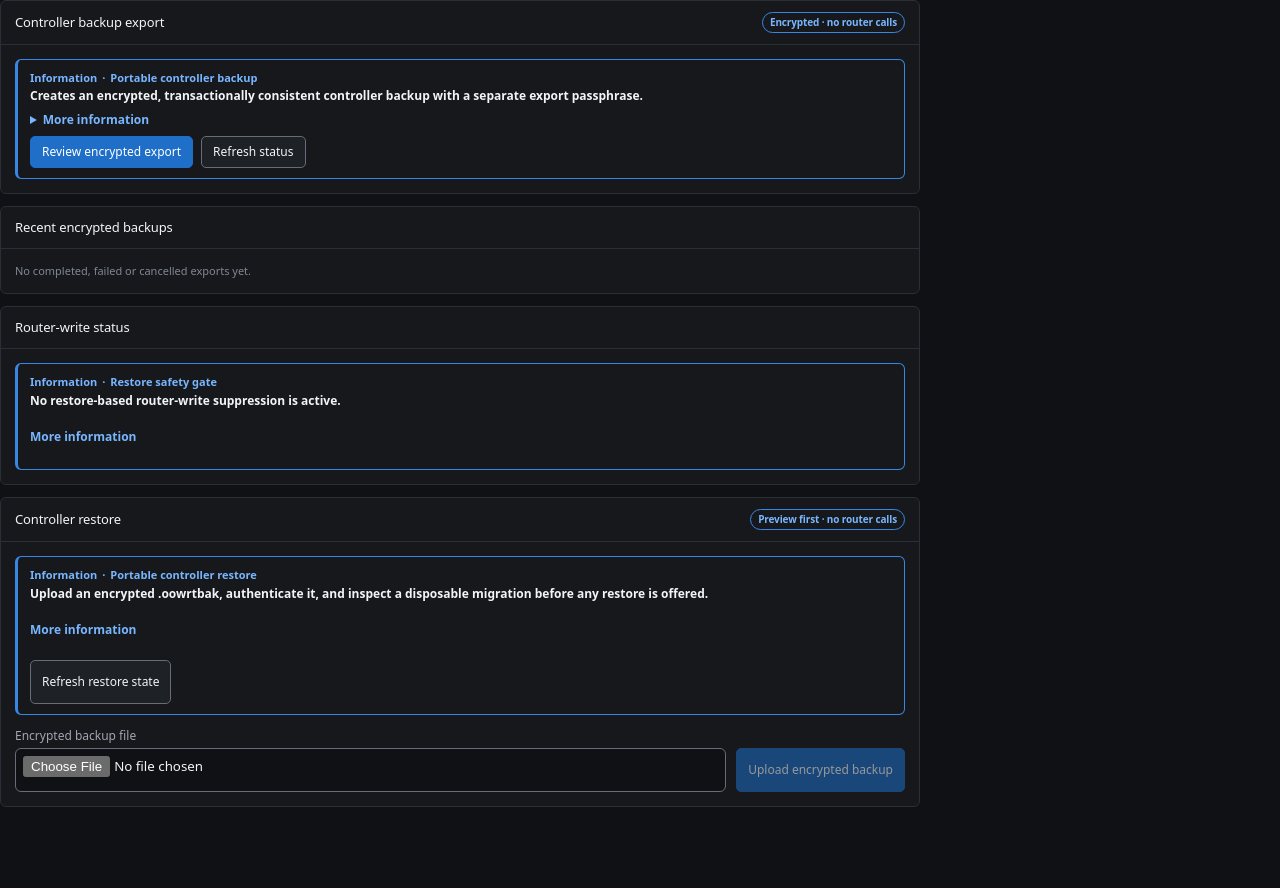
Test case: Backups › keeps sensitive details compact, then sends the exact reviewed plan and fresh acknowledgement
This screenshot has width=1280, height=888.
Expected: the text "Creates an encrypted, transactionally consistent controller backup" is shown, [30,87,643,104]
Expected: the field labelled "Export passphrase" is not shown
Click the button "Review encrypted export" at (112, 152), box [30,136,193,168]
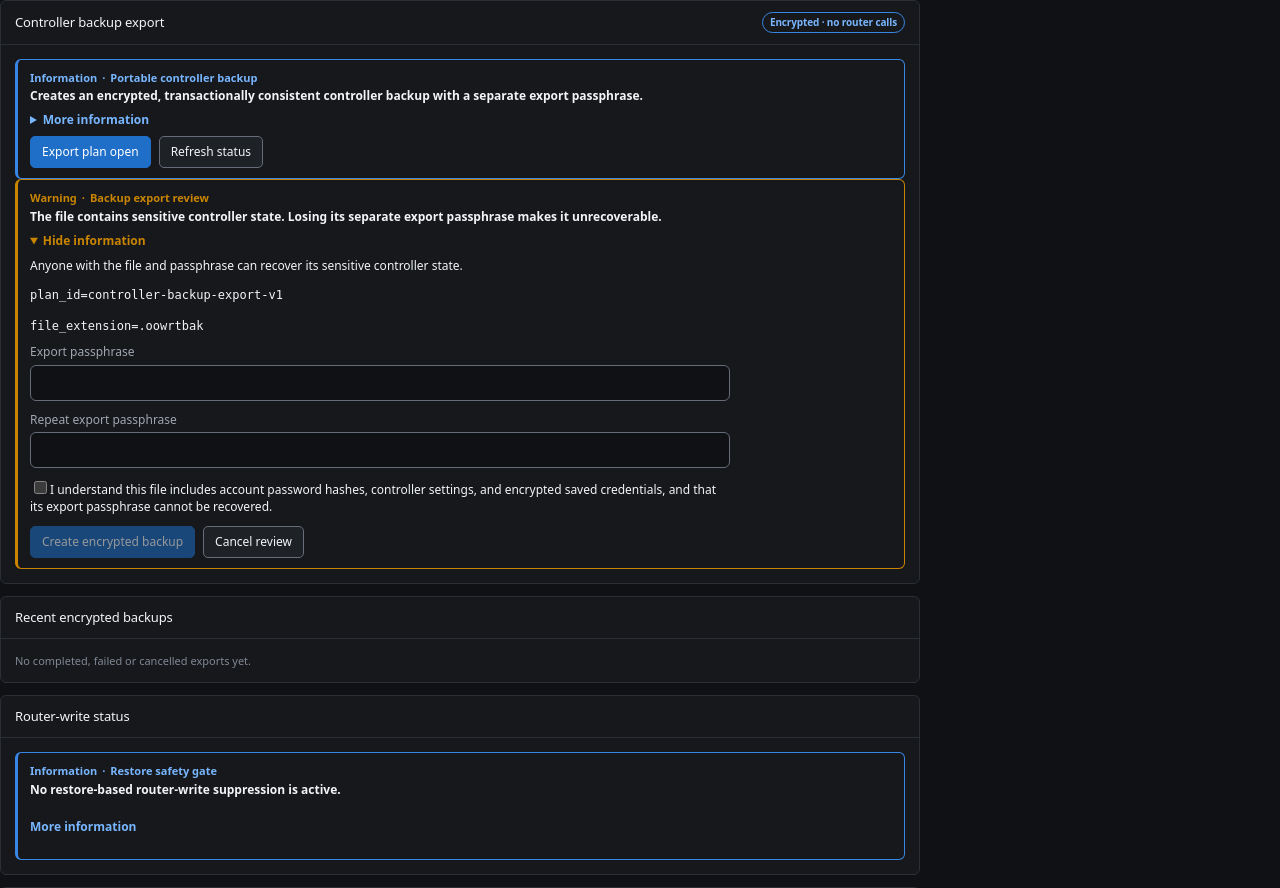
Now the text "plan_id=controller-backup-export-v1" is shown, box [30,288,283,302]
Type "separate export passphrase" into the password field labelled "Export passphrase" at (380, 382), box [30,364,730,400]
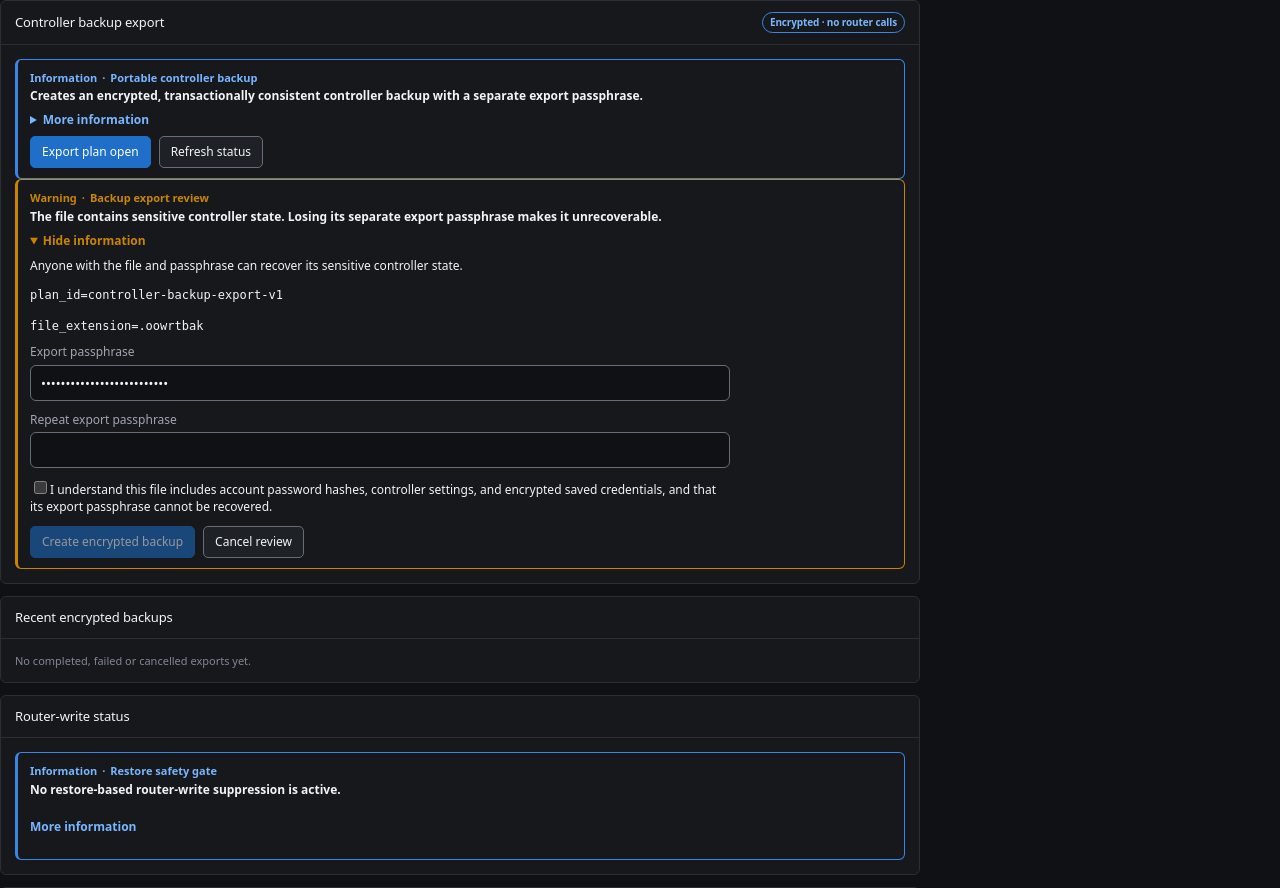
Type "separate export passphrase" into the password field labelled "Repeat export passphrase" at (380, 450), box [30,432,730,468]
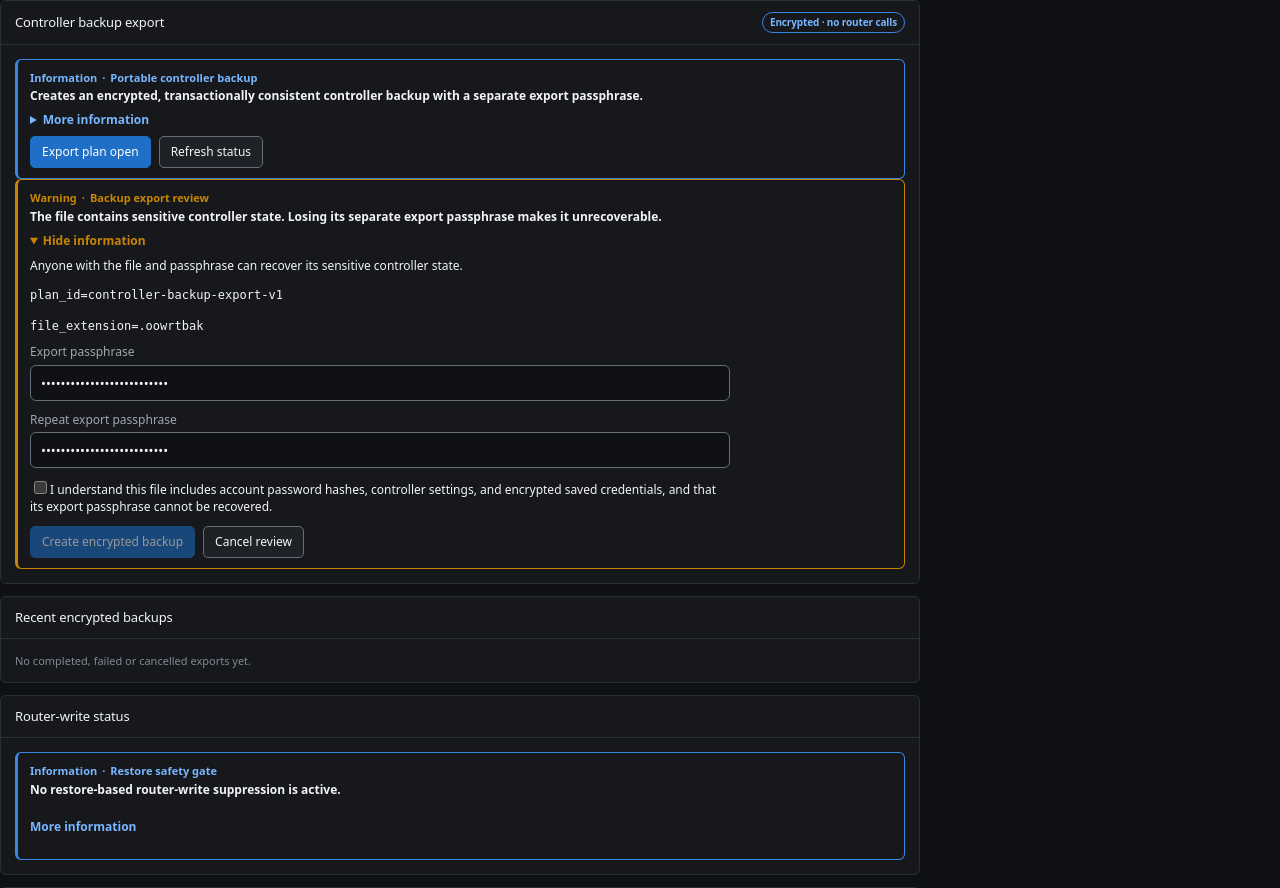
Click the checkbox at (40, 487), box [34,481,47,494]
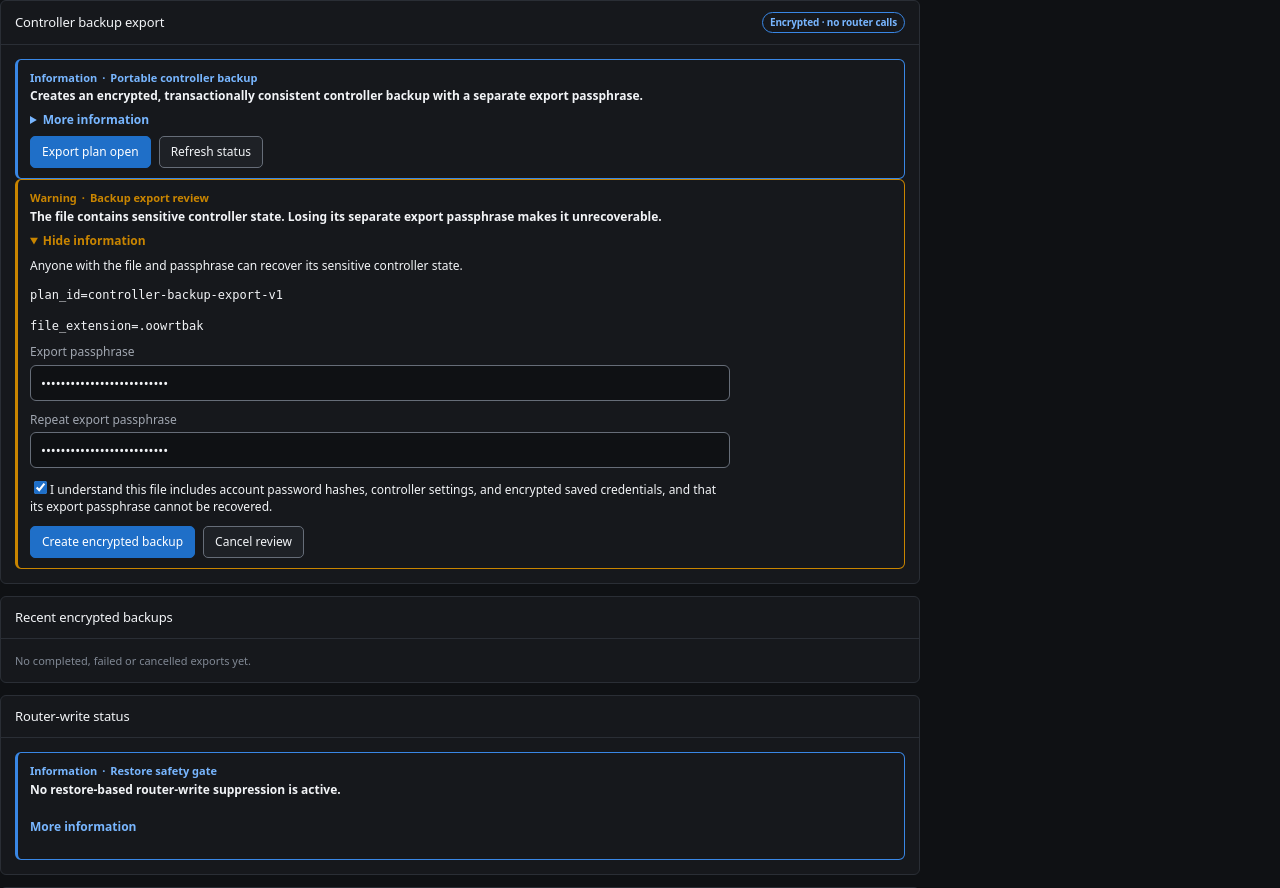
Click the button "Create encrypted backup" at (113, 542), box [30,526,195,558]
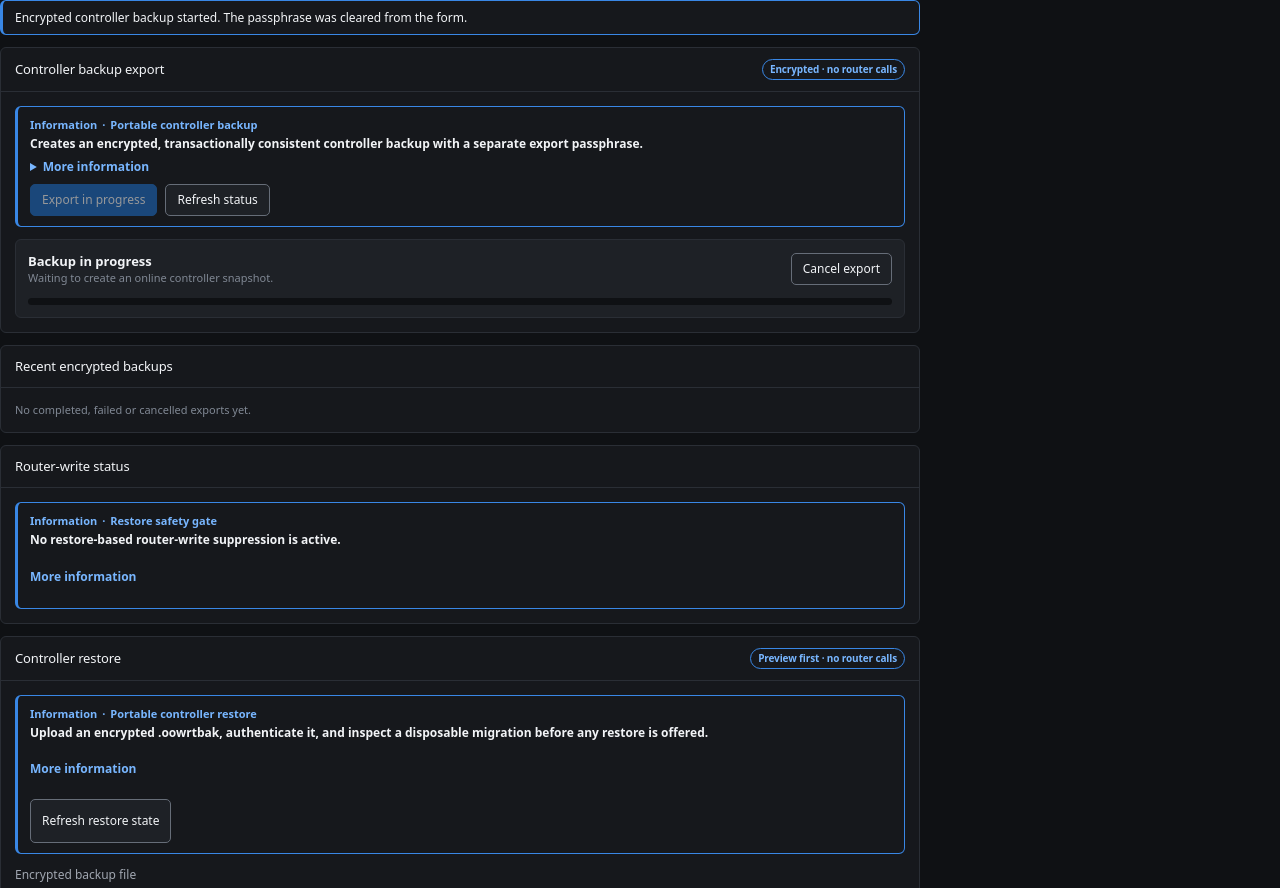
Expected: the field labelled "Export passphrase" is not shown
Now the text "Backup in progress" is shown, box [28,252,152,270]
